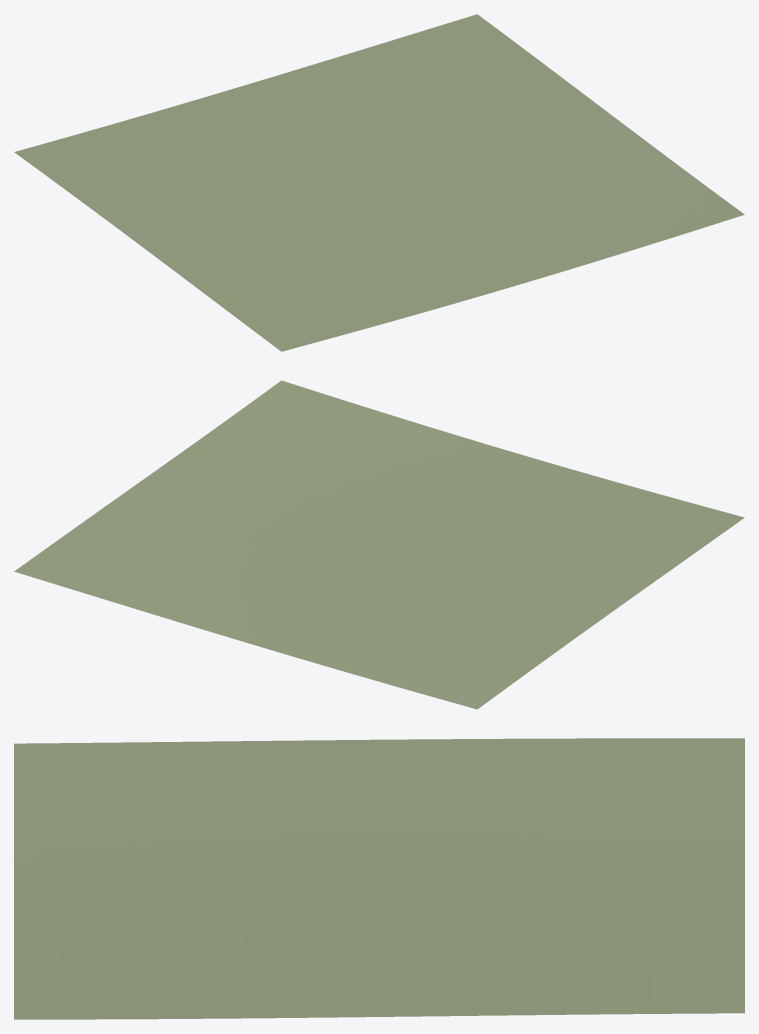
The model's file is expanse-9-5.glb.
The picture shows the model from 3 angles, top to bottom: view 1: azimuth 30°, elevation 25°; view 2: azimuth 150°, elevation 25°; view 3: azimuth 270°, elevation 25°; orthographic projection. The views are drawn at different scales.
Visible parts, largest first — view 1: expanse-9-5; view 2: expanse-9-5; view 3: expanse-9-5.
Part boxes in pixels (x1,y1,x2,y2): expanse-9-5: (14,14,744,351); expanse-9-5: (14,380,744,709); expanse-9-5: (14,738,744,1019).
Size of the model in its own units: 256 by 15.16 by 256.
